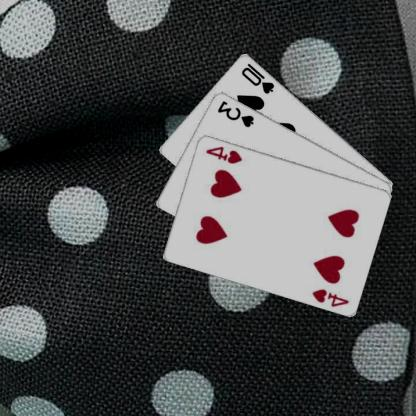10S: (241, 60, 277, 96)
3S: (217, 97, 257, 128)
4H: (311, 286, 351, 308), (205, 143, 245, 164)
